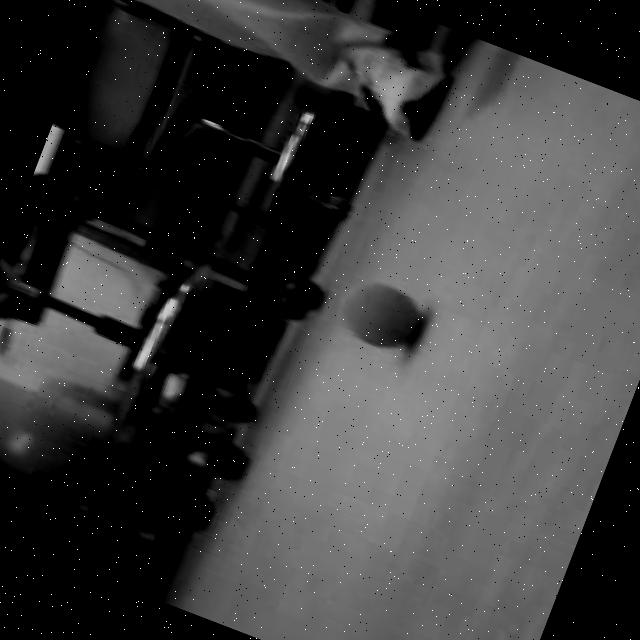ping-pong-ball: (326, 266, 436, 362)
